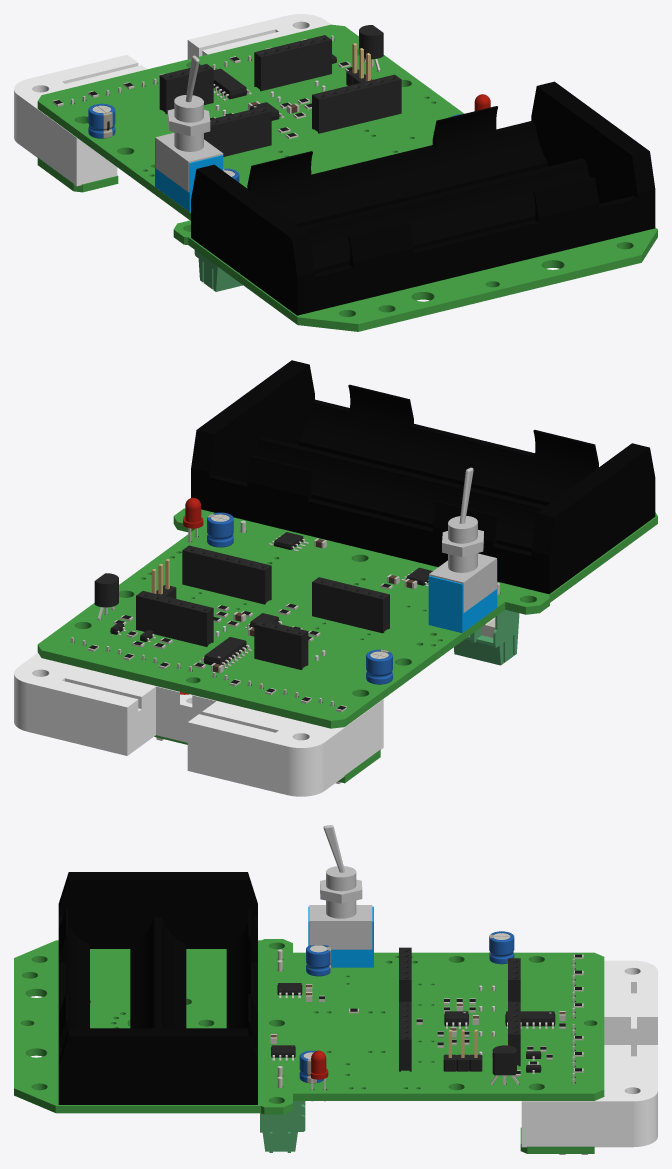
The model's file is caro.glb.
The picture shows the model from 3 angles, top to bottom: view 1: azimuth 30°, elevation 25°; view 2: azimuth 150°, elevation 25°; view 3: azimuth 270°, elevation 25°; orthographic projection. The views are drawn at different scales.
Visible parts, largest first — view 1: COMPOUND, caro PCB, SOLID021, COMPOUND035, SOLID032, SOLID006, SOLID015, COMPOUND003, COMPOUND005, COMPOUND001, COMPOUND004, SOLID024 (+7 smaller); view 2: COMPOUND, caro PCB, SOLID021, COMPOUND035, SOLID032, SOLID015, SOLID006, COMPOUND034, SOLID057, SOLID024, COMPOUND001, COMPOUND005 (+6 smaller); view 3: caro PCB, COMPOUND, SOLID021, COMPOUND035, SOLID064, SOLID014, COMPOUND034, SOLID032, SOLID005, SOLID039, SOLID050, SOLID015 (+5 smaller).
Part boxes in pixels (x1,y1,x2,y2): COMPOUND: [191, 81, 655, 315]; caro PCB: [37, 24, 657, 331]; SOLID021: [14, 14, 330, 186]; COMPOUND035: [155, 55, 223, 192]; SOLID032: [312, 74, 401, 133]; SOLID006: [254, 35, 331, 91]; SOLID015: [204, 106, 271, 156]; COMPOUND003: [348, 222, 413, 267]; COMPOUND005: [533, 177, 598, 222]; COMPOUND001: [432, 106, 497, 147]; COMPOUND004: [247, 151, 312, 192]; SOLID024: [159, 64, 213, 114]; COMPOUND: [191, 360, 655, 594]; caro PCB: [37, 508, 657, 728]; SOLID021: [14, 653, 383, 796]; COMPOUND035: [429, 467, 496, 613]; SOLID032: [182, 545, 271, 604]; SOLID015: [312, 577, 389, 633]; SOLID006: [136, 591, 213, 646]; COMPOUND034: [428, 559, 497, 632]; SOLID057: [454, 582, 519, 665]; SOLID024: [254, 619, 308, 669]; COMPOUND001: [247, 455, 312, 501]; COMPOUND005: [348, 384, 413, 426]; caro PCB: [14, 939, 604, 1114]; COMPOUND: [58, 872, 257, 1104]; SOLID021: [521, 960, 657, 1147]; COMPOUND035: [309, 825, 372, 949]; SOLID064: [260, 1066, 305, 1152]; SOLID014: [443, 1029, 482, 1071]; COMPOUND034: [308, 906, 373, 967]; SOLID032: [399, 1001, 411, 1071]; SOLID005: [490, 1045, 518, 1084]; SOLID039: [489, 931, 514, 964]; SOLID050: [306, 945, 331, 976]; SOLID015: [399, 947, 411, 1001].
Size of the model in its own units: 78.74 by 43.79 by 127.
